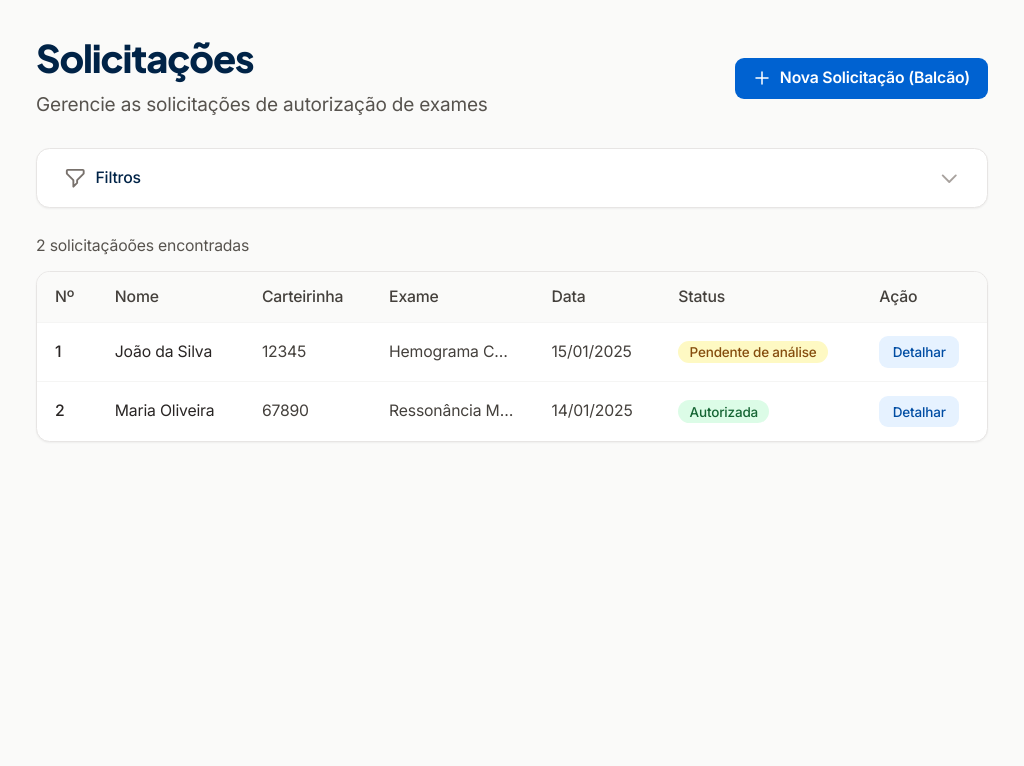
it: AdminSolicitacoes › shows CPF validation error for invalid CPF
Expected: the text "João da Silva" is shown, [97, 322, 244, 382]
Note: Expand filter panel
Click the button "Filtros".
click(118, 177)  # box [37, 149, 987, 208]
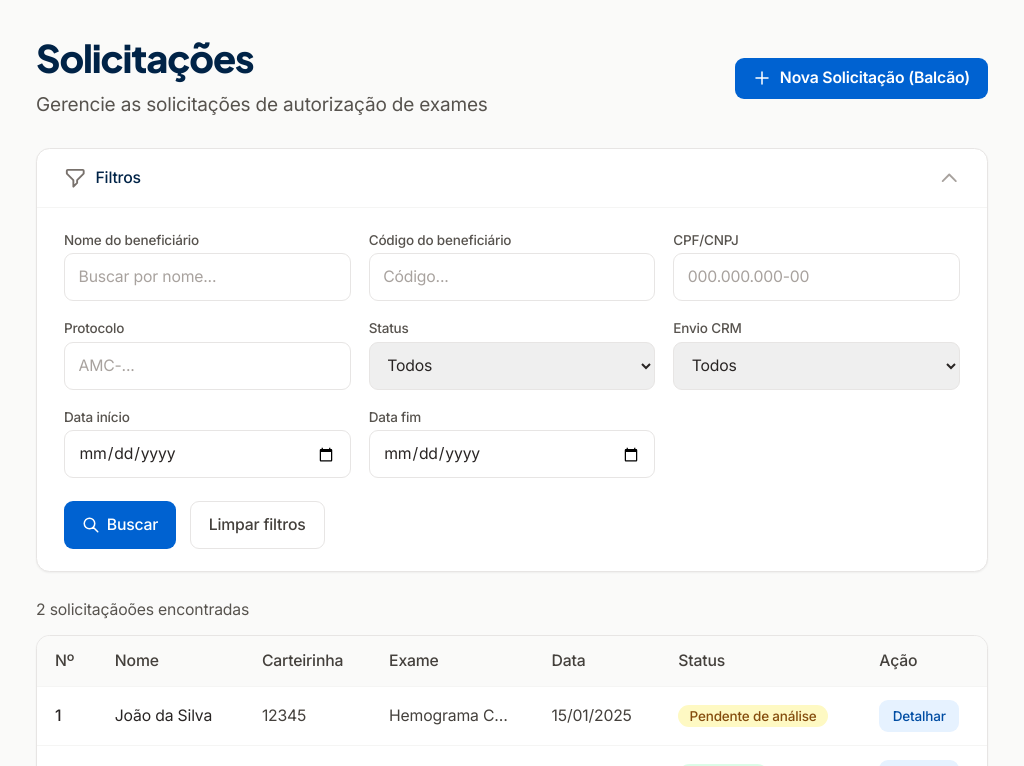
Note: Enter invalid CPF
Type "123" into the field labelled "CPF/CNPJ".
click(817, 278); type("123")  # box [673, 254, 960, 302]
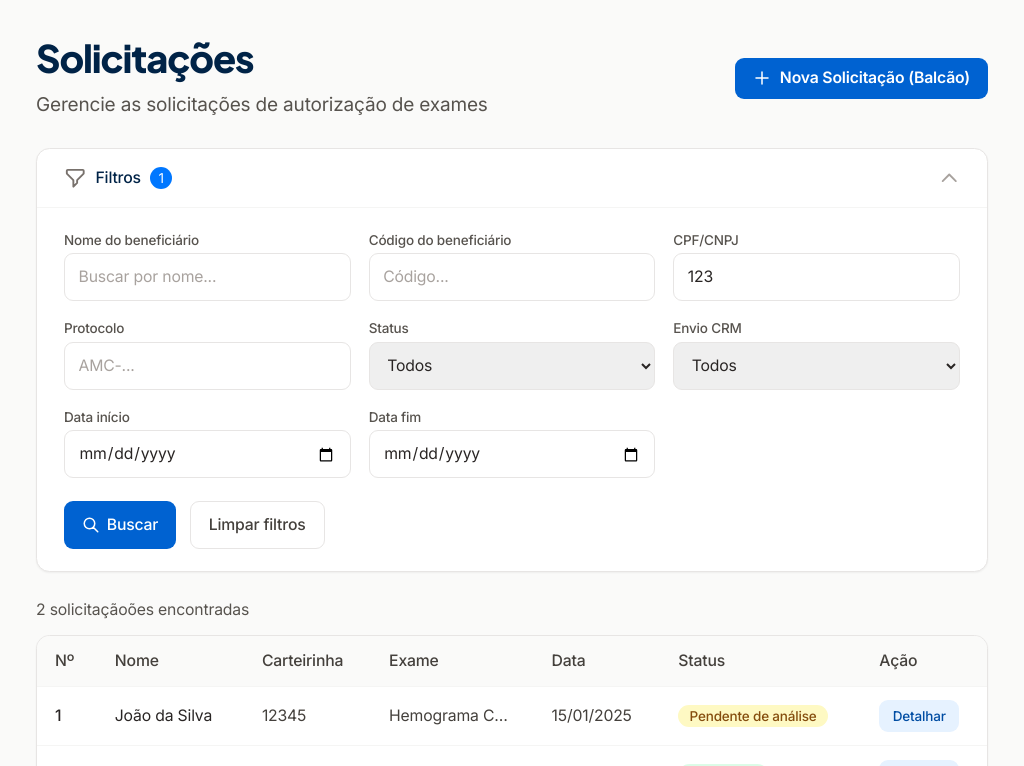
Click the button "Buscar".
click(120, 525)  # box [64, 501, 176, 549]
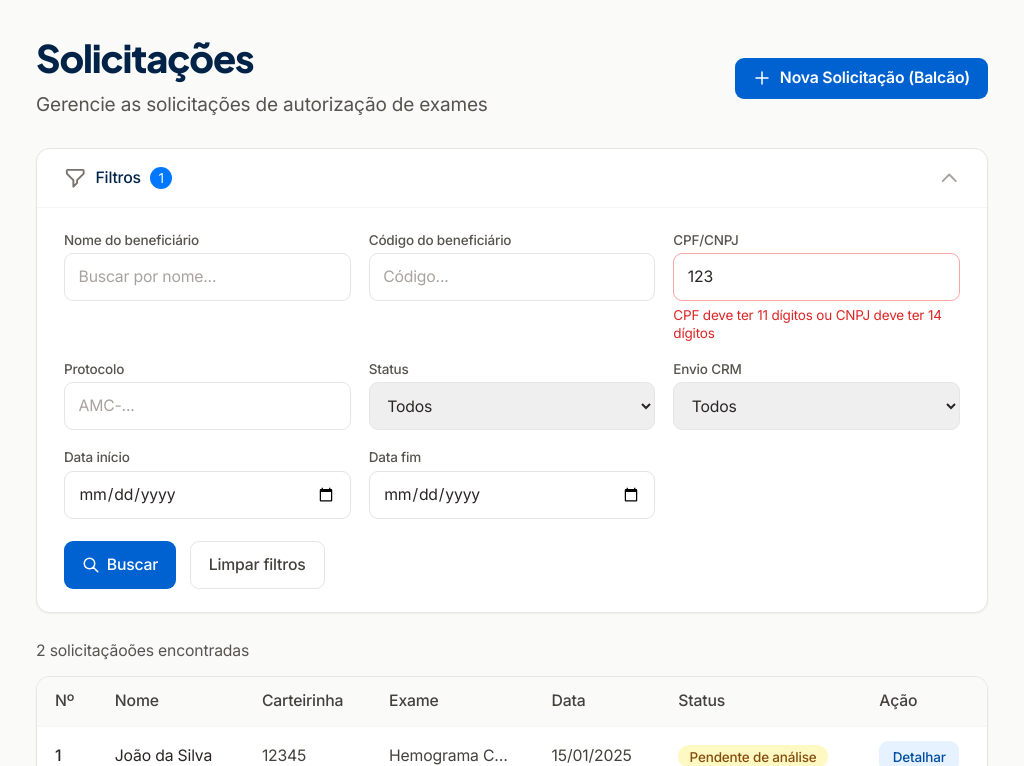
Expected: the text "CPF deve ter 11 dígitos ou CNPJ deve ter 14 dígitos" is shown, [673, 306, 960, 342]
